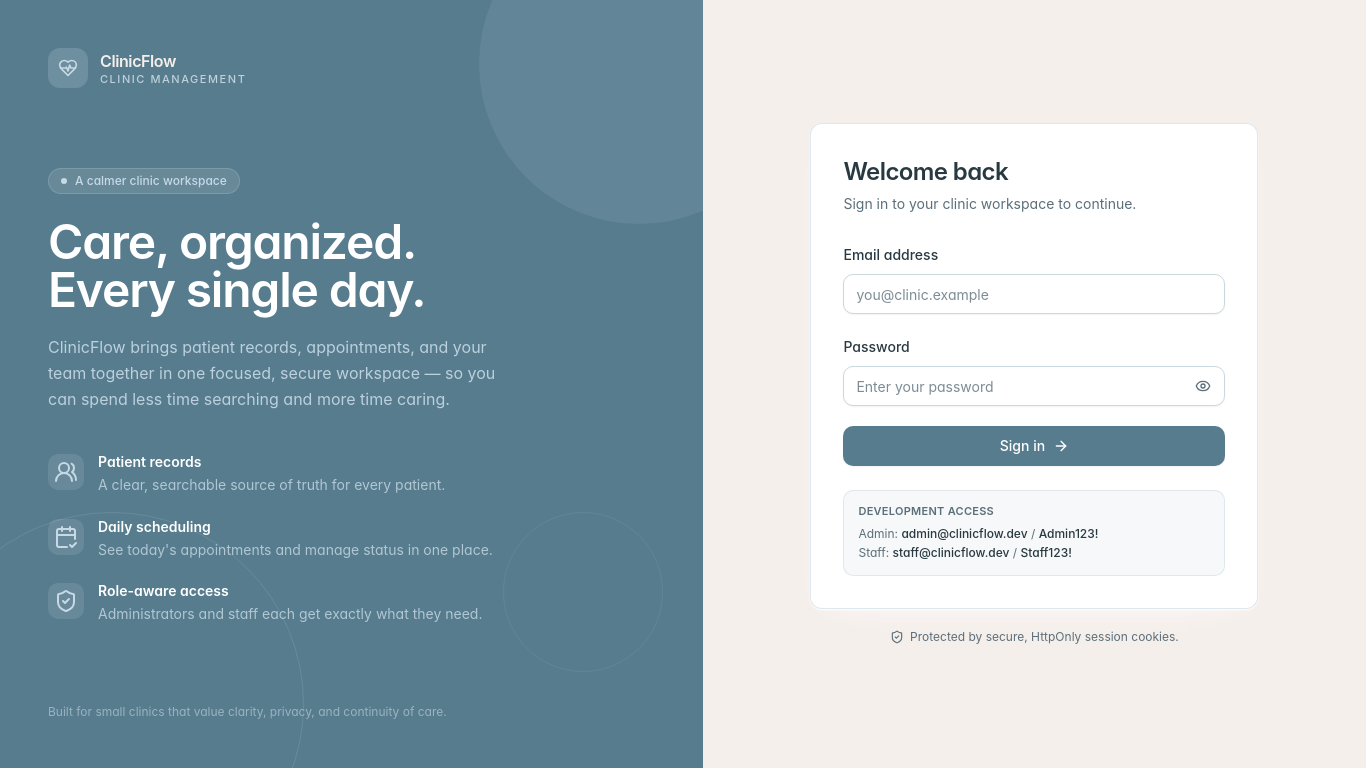
Test case: LoginScreen › shows validation errors for an empty submission
Click the button "Sign in" at (1034, 446), box x1=843 y1=426 x2=1225 y2=466
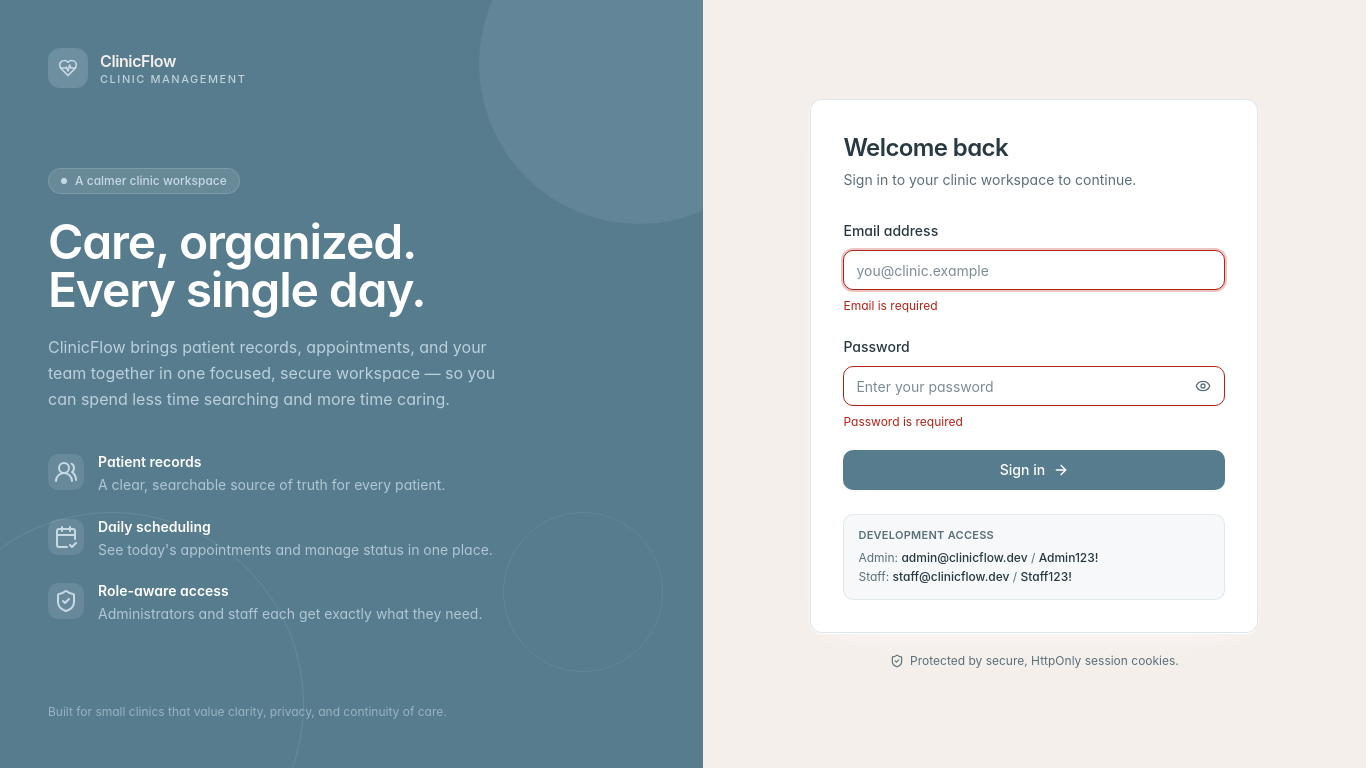
Check: the text "Email is required" is shown, box x1=843 y1=298 x2=938 y2=313
Check: the text "Password is required" is shown, box x1=843 y1=414 x2=963 y2=429
